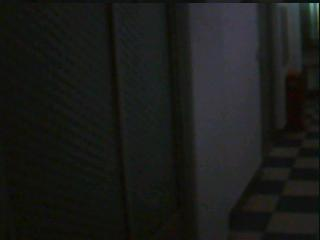oball: (290, 68, 295, 73)
